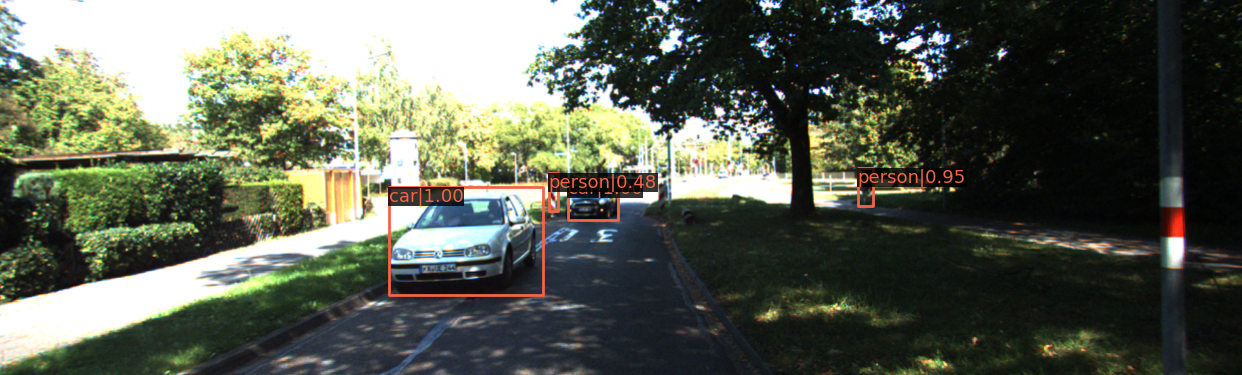car: (387, 190, 537, 299), (564, 180, 616, 219)
person: (860, 166, 875, 209)
